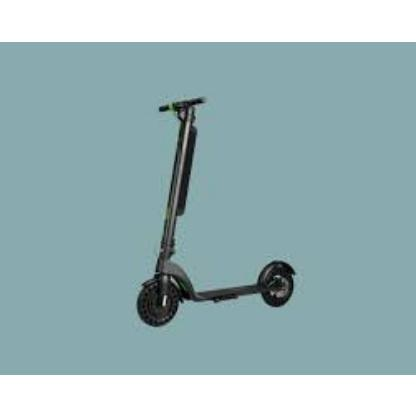bike: (135, 96, 298, 328)
